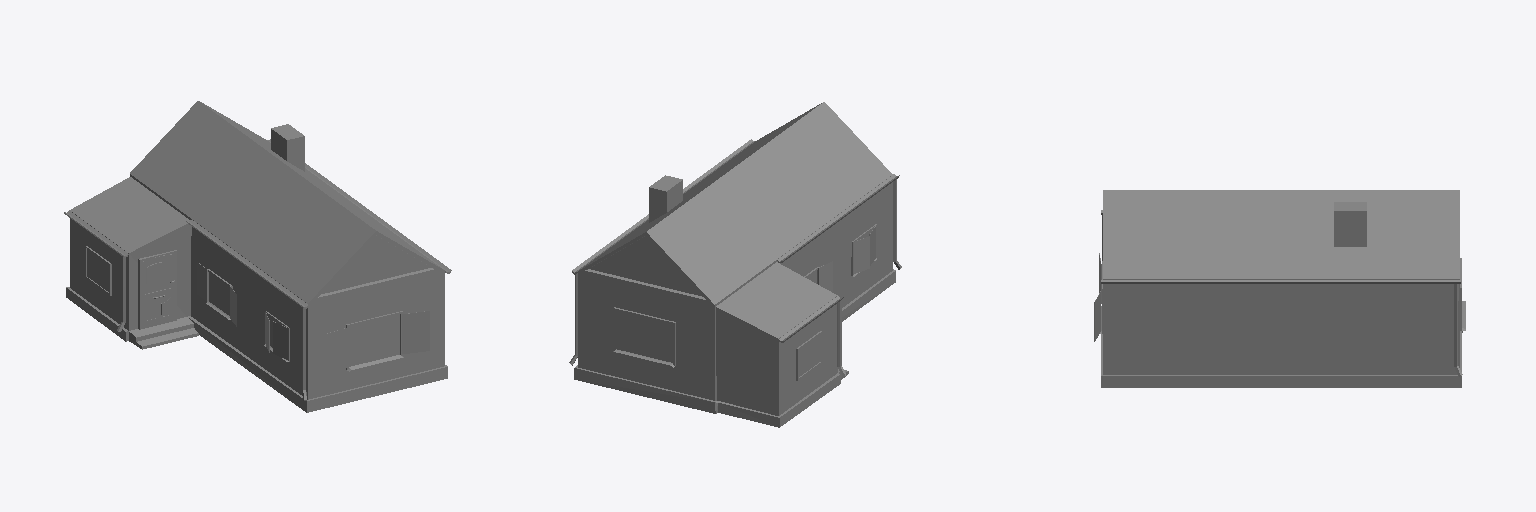
The model's file is house-low-rus-obj.obj.
The picture shows the model from 3 angles: view 1: azimuth 30°, elevation 25°; view 2: azimuth 150°, elevation 25°; view 3: azimuth 270°, elevation 25°; orthographic projection.
Parts seen in each view (by area): view 1: House_by_CheRya_01, door; view 2: House_by_CheRya_01; view 3: House_by_CheRya_01.
Part boxes in pixels (x1,y1,x2,y2): House_by_CheRya_01: (64,101,451,412); door: (141,254,175,328); House_by_CheRya_01: (569,102,901,427); House_by_CheRya_01: (1094,190,1465,387).
Bounding box in the file's own units: 316 × 229 × 469.